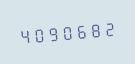eight: (87, 18, 100, 41)
four: (17, 24, 30, 47)
nine: (45, 21, 58, 44)
six: (73, 19, 86, 42)
two: (101, 17, 114, 39)
zero: (59, 20, 72, 43), (31, 23, 44, 45)
